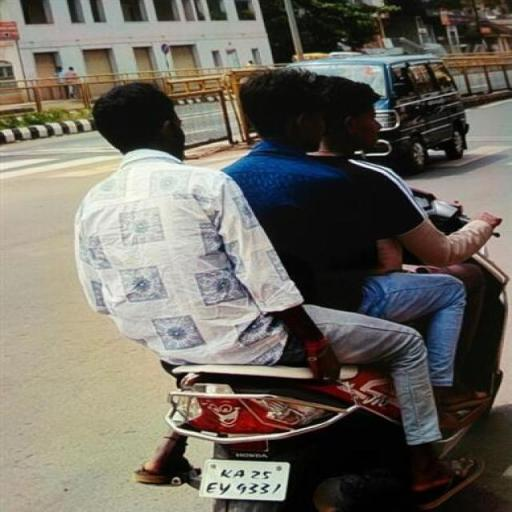tripple riding: (59, 62, 512, 332)
